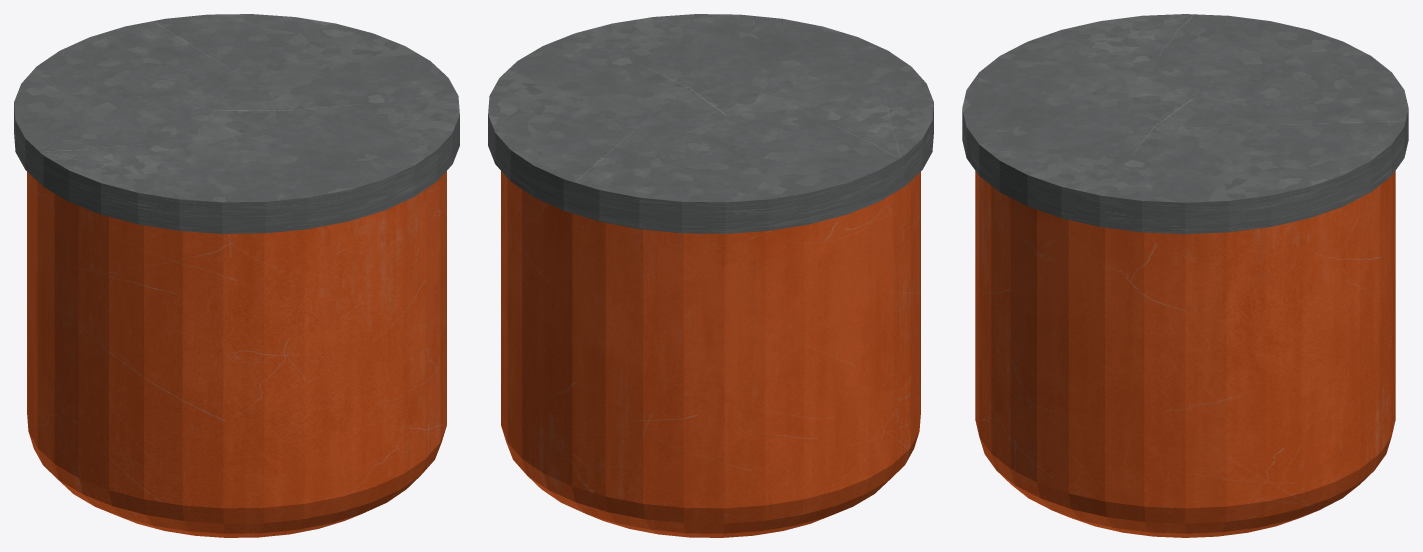
File: alarm_light.glb
3 views of the same model, side by side, from view 1: azimuth 30°, elevation 25°; view 2: azimuth 150°, elevation 25°; view 3: azimuth 270°, elevation 25° (orthographic).
Visible parts, largest first — view 1: Cylinder.001, Cylinder; view 2: Cylinder.001, Cylinder; view 3: Cylinder.001, Cylinder.
Boxes of the visible parts, <box> form: Cylinder.001: <box>27,171,446,537</box>; Cylinder: <box>14,14,459,233</box>; Cylinder.001: <box>501,171,920,537</box>; Cylinder: <box>488,14,933,233</box>; Cylinder.001: <box>975,171,1395,537</box>; Cylinder: <box>962,14,1408,234</box>.
Bounding box in the file's own units: 2 × 1.93 × 2.
2 materials, 2 textured.
